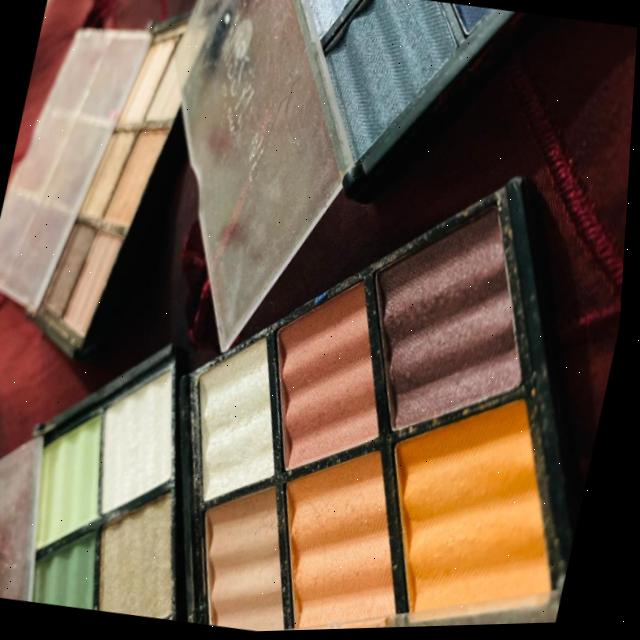eye shade: (134, 114, 634, 636), (0, 306, 247, 627), (230, 0, 426, 206)
